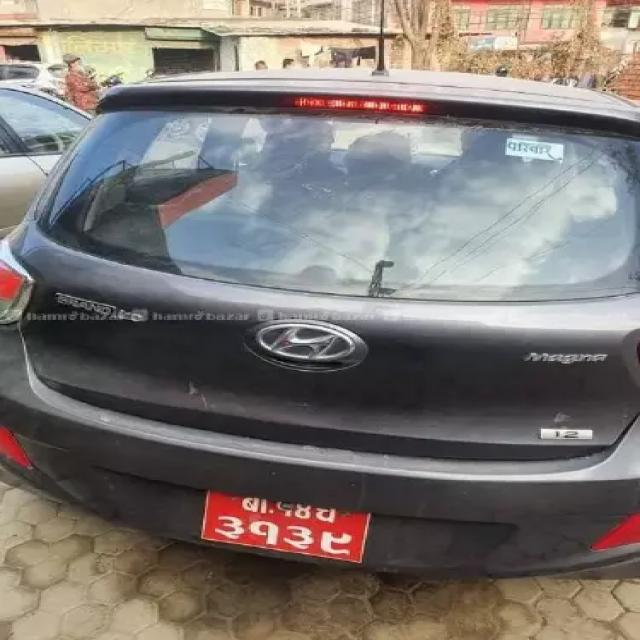License-plate: (195, 484, 383, 570)
